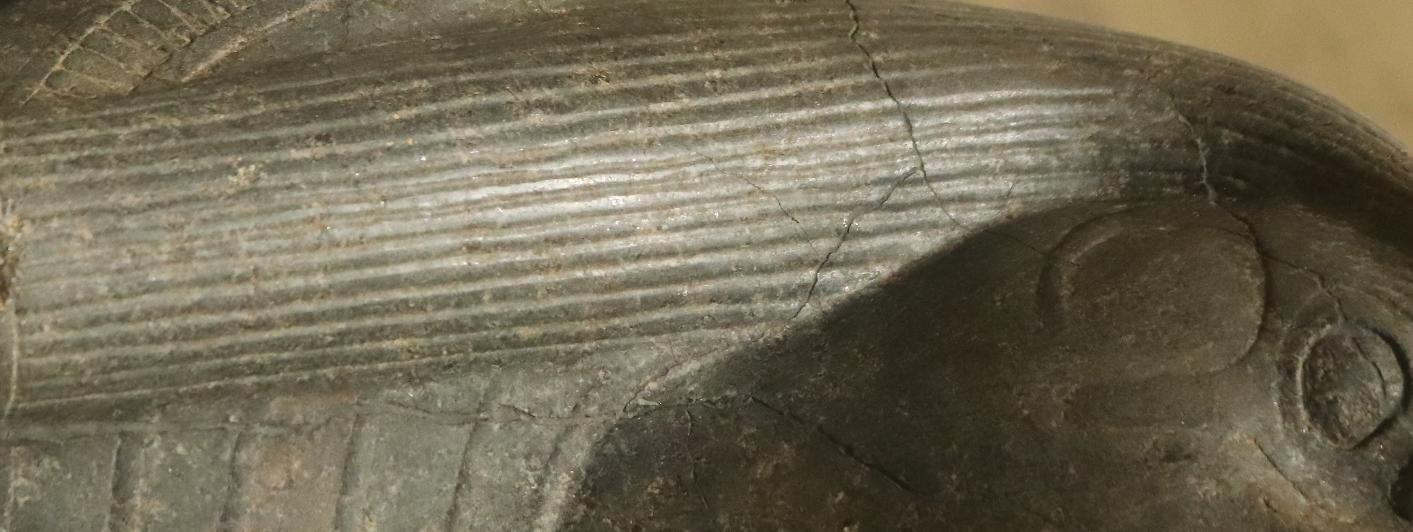Ra_Horakhty: (0, 0, 802, 532)
